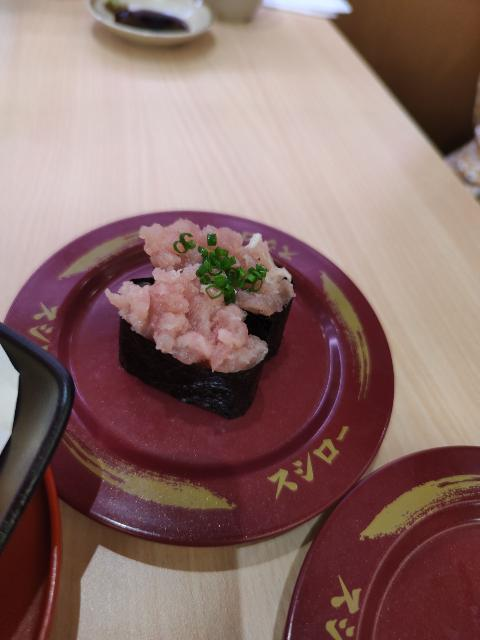janred: (17, 197, 370, 530), (291, 485, 480, 640), (0, 493, 73, 640)
